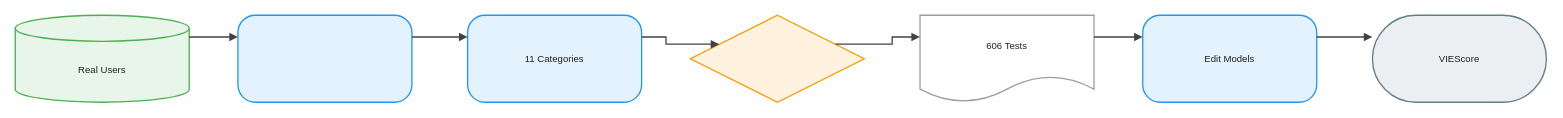
Image size: 1563x118. Some labels were removed from this diagram. Here are the shapes that lost their labels. From the top down, the centre of each, then its label:
point (324, 58): 1K+ Edits
point (777, 58): Dedup Filter
